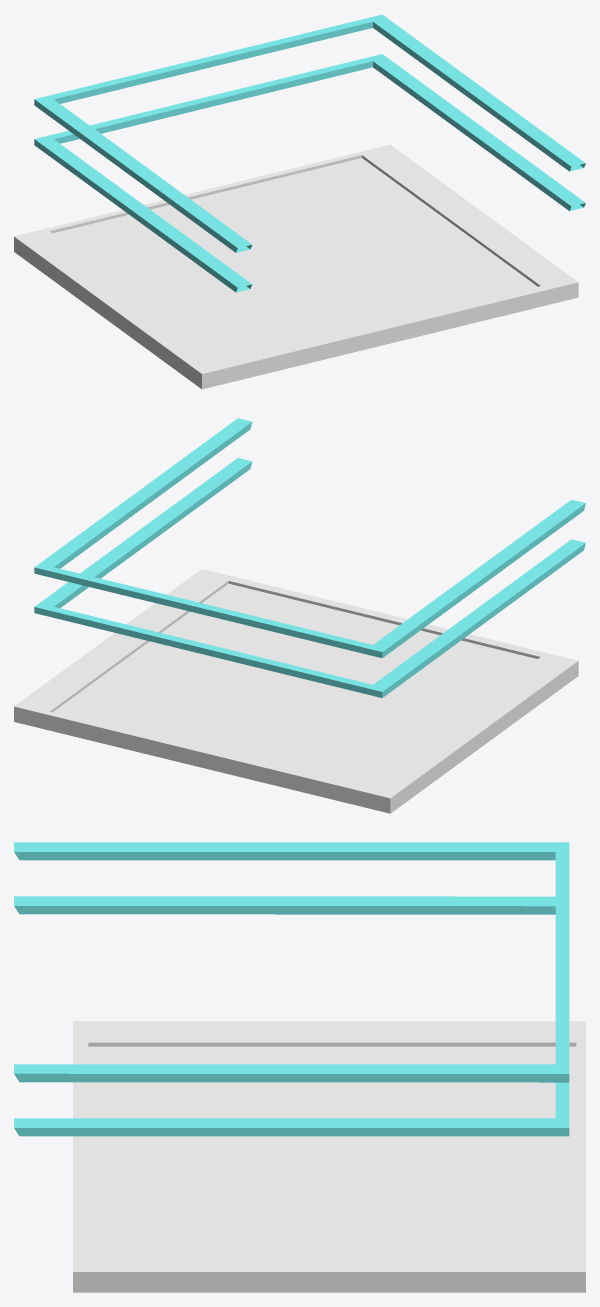
The model's file is Hangar_HoverPlatformEnd_01.fbx.
The picture shows the model from 3 angles, top to bottom: view 1: azimuth 30°, elevation 25°; view 2: azimuth 150°, elevation 25°; view 3: azimuth 270°, elevation 25°; orthographic projection. The views are drawn at different scales.
Parts seen in each view (by area): view 1: HoverPlatformEnd_01; view 2: HoverPlatformEnd_01; view 3: HoverPlatformEnd_01.
Boxes of the visible parts, bbox=[...] form: HoverPlatformEnd_01: bbox=[14, 14, 585, 389]; HoverPlatformEnd_01: bbox=[14, 418, 585, 813]; HoverPlatformEnd_01: bbox=[14, 842, 585, 1292].
Bounding box in the file's own units: 227 × 88.44 × 219.
